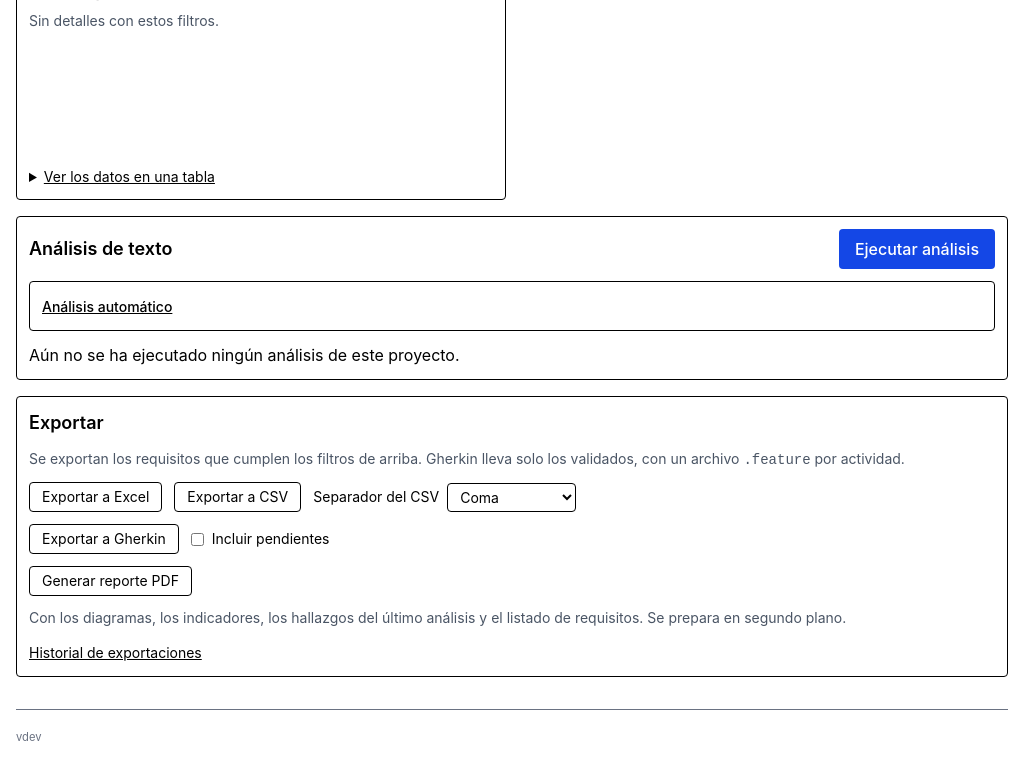
it: exportación inmediata › Gherkin sin requisitos validados sugiere incluir los pendientes
The width and height of the screenshot is (1024, 762).
(page scrolled)
Click the button "Exportar a Gherkin": x=104, y=539 [29,524,179,554]
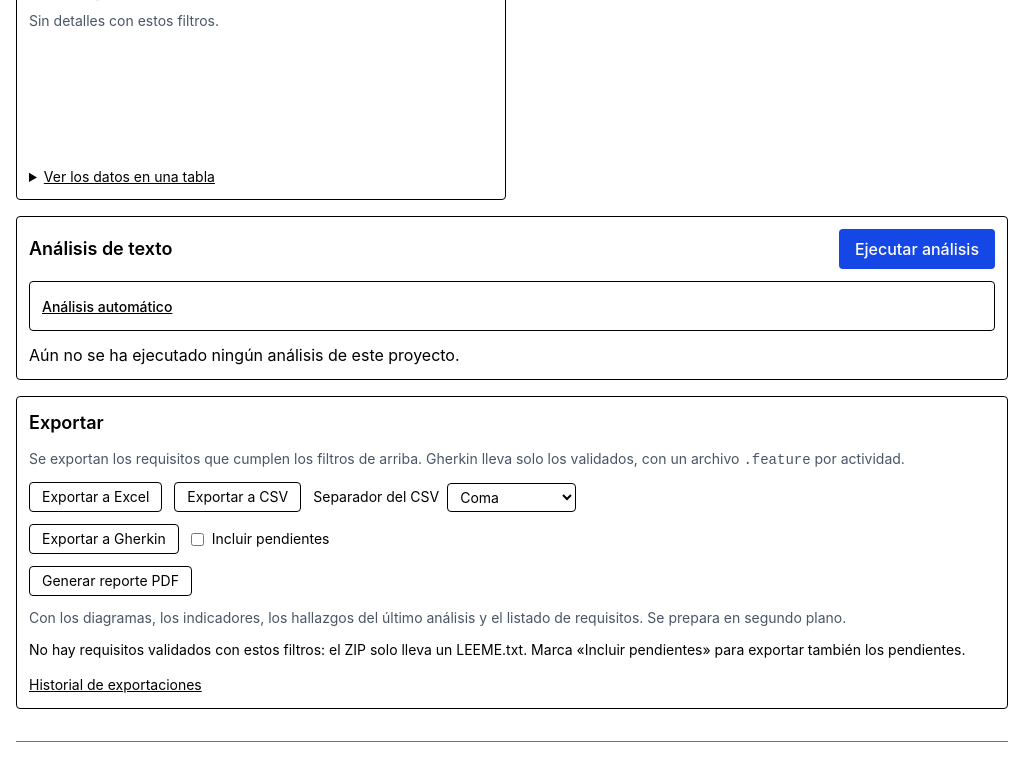
Now the message shows "No hay requisitos validados con estos filtros", box [29,641,966,658]
